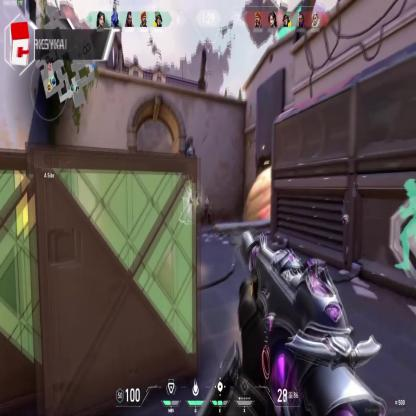enemy: (201, 194, 211, 227)
enemy_head: (205, 195, 208, 202)
